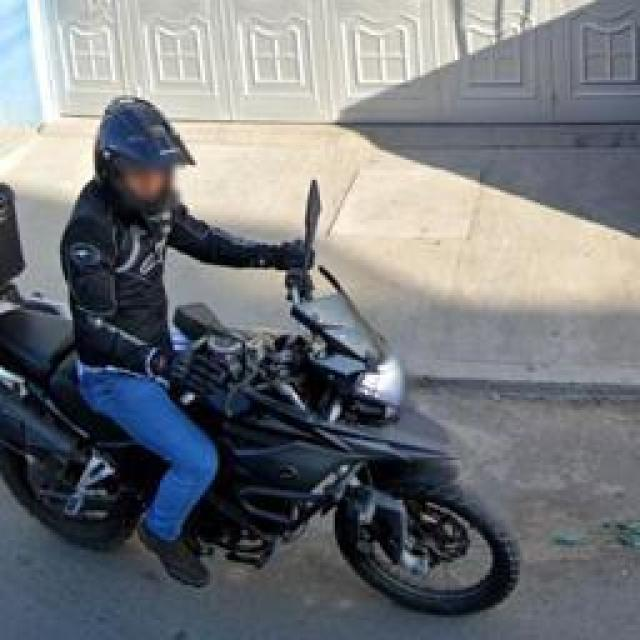motorbike: (0, 105, 526, 620)
